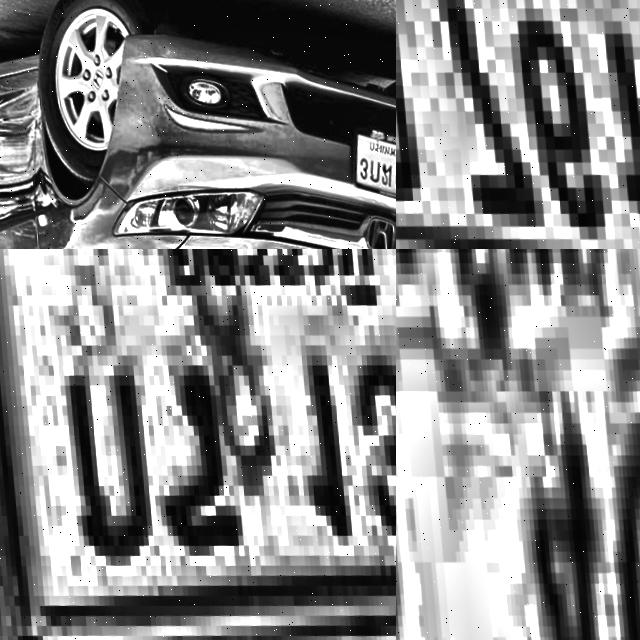license-plate: (0, 249, 396, 640), (396, 249, 640, 640), (396, 0, 640, 249), (341, 110, 396, 212)
